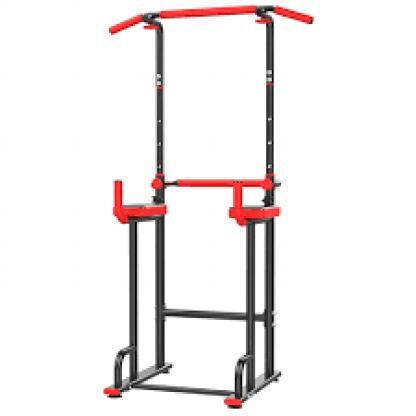chinning dipping: (104, 3, 316, 408)
